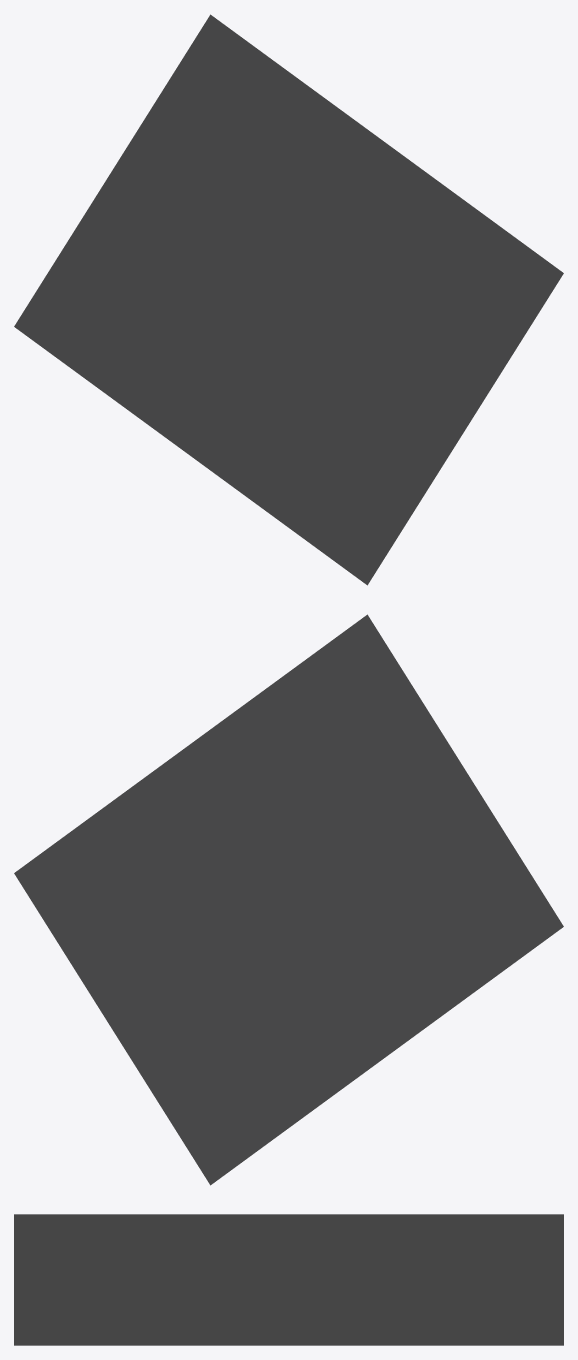
File: secondary_204.glb
The picture shows the model from 3 angles, top to bottom: view 1: azimuth 30°, elevation 25°; view 2: azimuth 150°, elevation 25°; view 3: azimuth 270°, elevation 25°; orthographic projection. The views are drawn at different scales.
Visible parts, largest first — view 1: Object; view 2: Object; view 3: Object.
Part boxes in pixels (<box>): Object: <box>14,14,563,585</box>; Object: <box>14,614,563,1185</box>; Object: <box>14,1214,563,1345</box>.
Bounding box in the file's own units: 0.6628 × 0.8522 × 2.07.
1 material, 1 textured.
